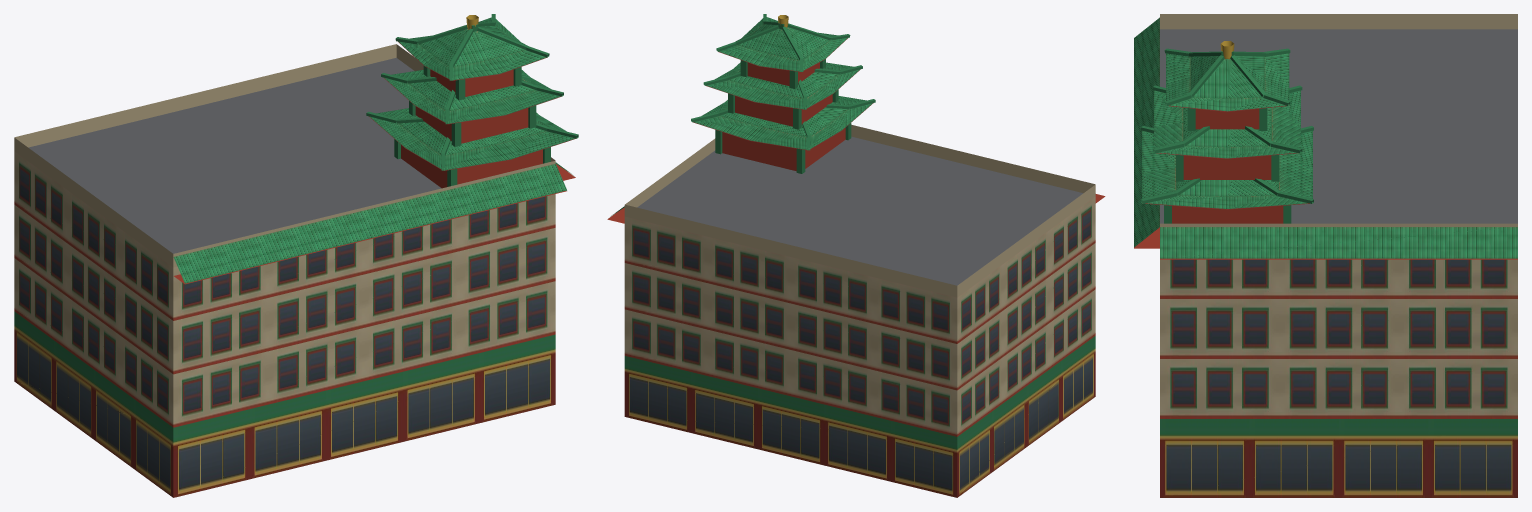
File: sing_chong_building.glb
3 renders of one model, left to right at view 1: azimuth 30°, elevation 25°; view 2: azimuth 150°, elevation 25°; view 3: azimuth 270°, elevation 25°, orthographic. The views are drawn at different scales.
Visible parts, largest first — view 1: sing_chong_building; view 2: sing_chong_building; view 3: sing_chong_building.
Boxes of the visible parts, <box> form: sing_chong_building: <box>14,14,578,497</box>; sing_chong_building: <box>607,14,1105,497</box>; sing_chong_building: <box>1134,14,1517,497</box>.
Size of the model in its own units: 24.5 by 22 by 18.
2 materials, 2 textured.
